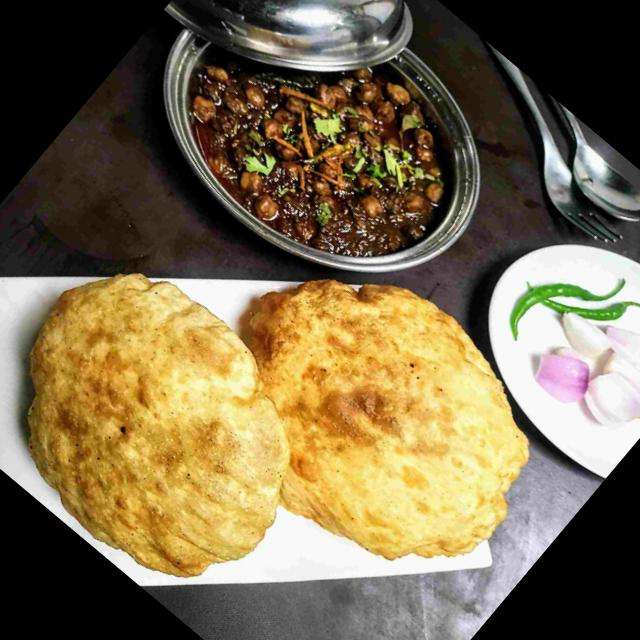Bhatura: (170, 217, 581, 621), (0, 230, 353, 621)
